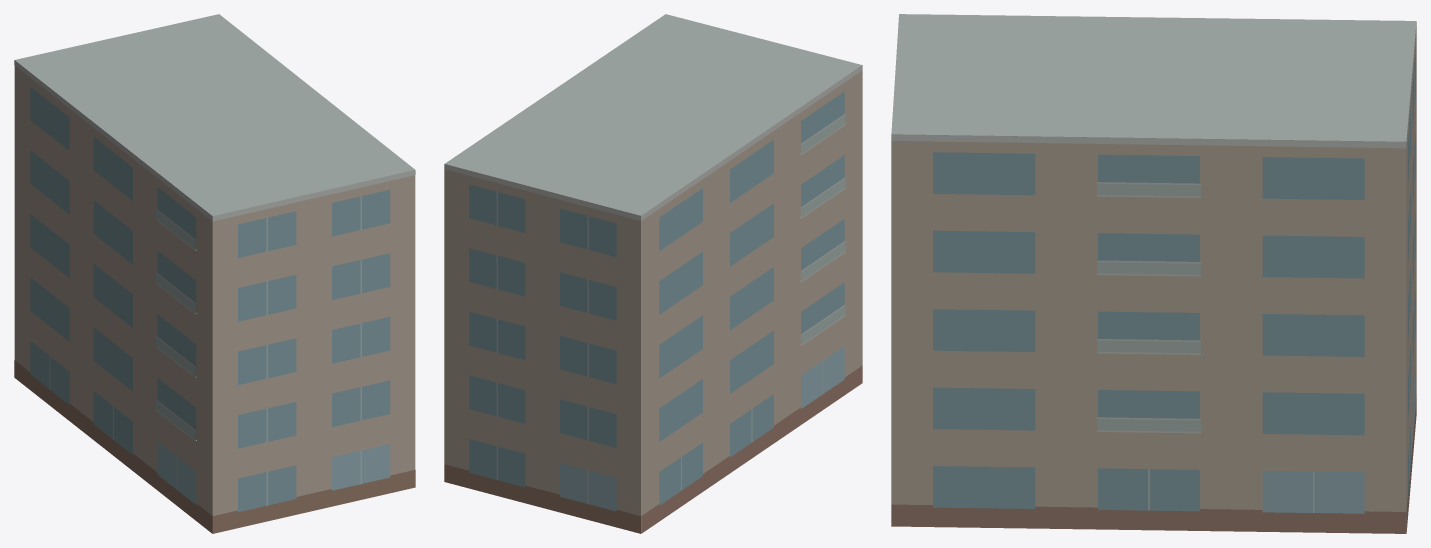
The model's file is survey-upis-32994793.glb.
3 views of the same model, side by side, from view 1: azimuth 30°, elevation 25°; view 2: azimuth 150°, elevation 25°; view 3: azimuth 270°, elevation 25° (orthographic). The views are drawn at different scales.
Parts seen in each view (by area): view 1: survey-upis-32994793.tmp; view 2: survey-upis-32994793.tmp; view 3: survey-upis-32994793.tmp.
Part boxes in pixels (x1,y1,x2,y2): survey-upis-32994793.tmp: [14, 14, 415, 533]; survey-upis-32994793.tmp: [444, 14, 862, 533]; survey-upis-32994793.tmp: [891, 14, 1416, 533].
Size of the model in its own units: 10.14 by 14.5 by 17.61.
